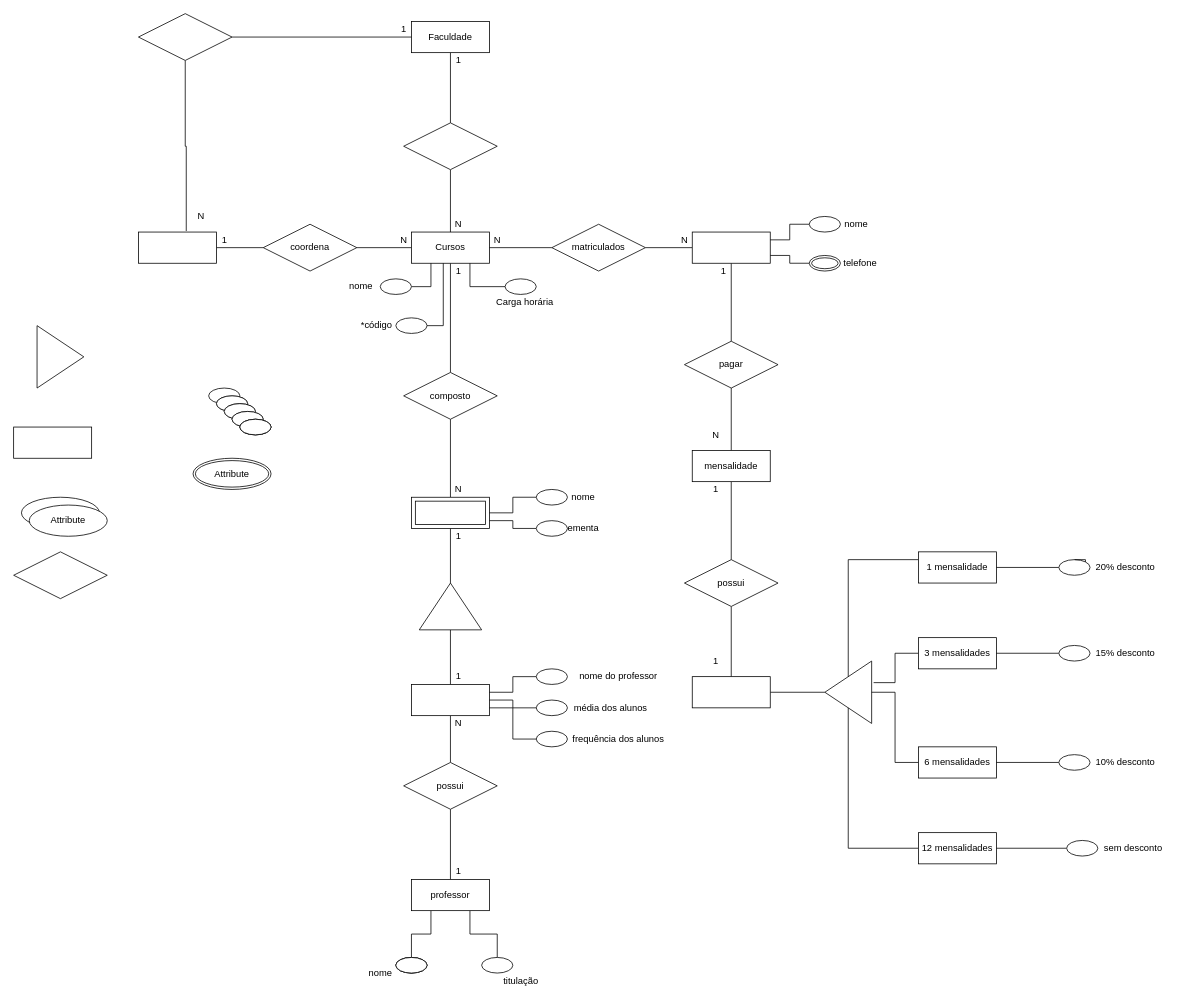
The diagram is 1182 pixels wide and 1002 high, and some of its shapes have lost their labels. Here are the shapes that lost their labels. From the top down, the centre of each, then its label:
point (185, 36): trabalha
point (450, 146): oferece
point (177, 247): Coordenador
point (730, 247): Alunos
point (52, 442): Entity
point (450, 512): Módulo
point (60, 575): Relationship
point (450, 700): ministrado
point (730, 692): Critérios
